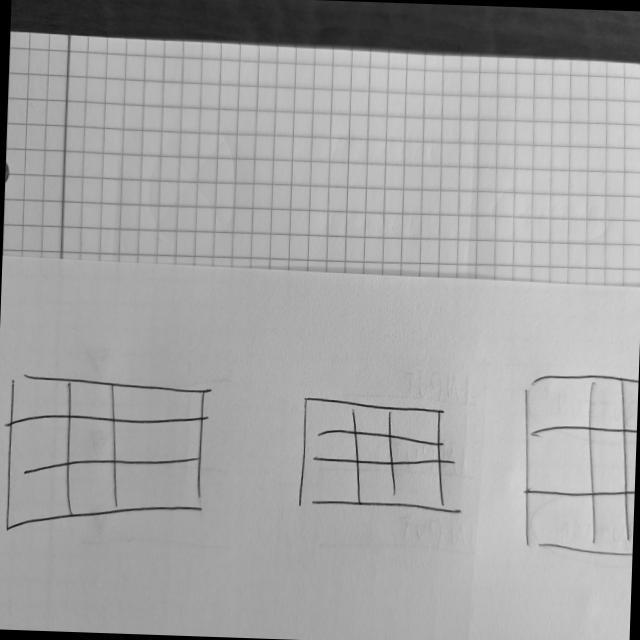table: (3, 366, 211, 539), (518, 368, 640, 564), (296, 394, 452, 517)
